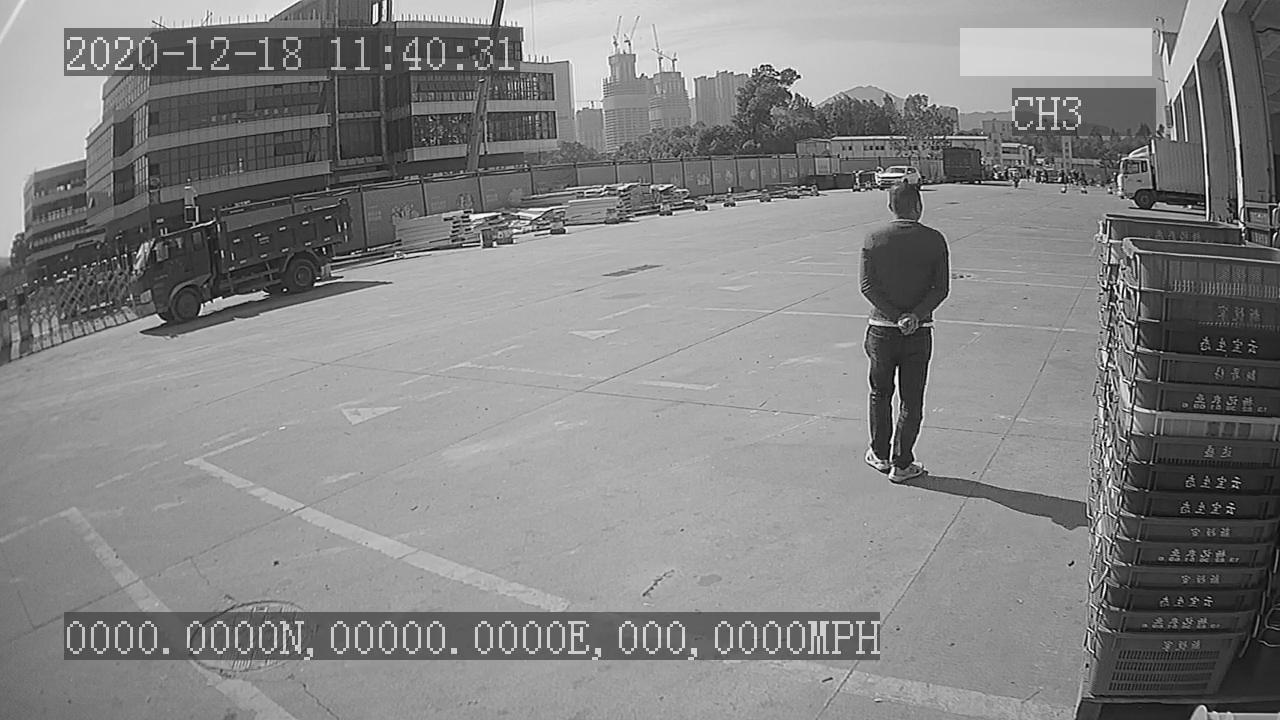person: (858, 181, 952, 484)
